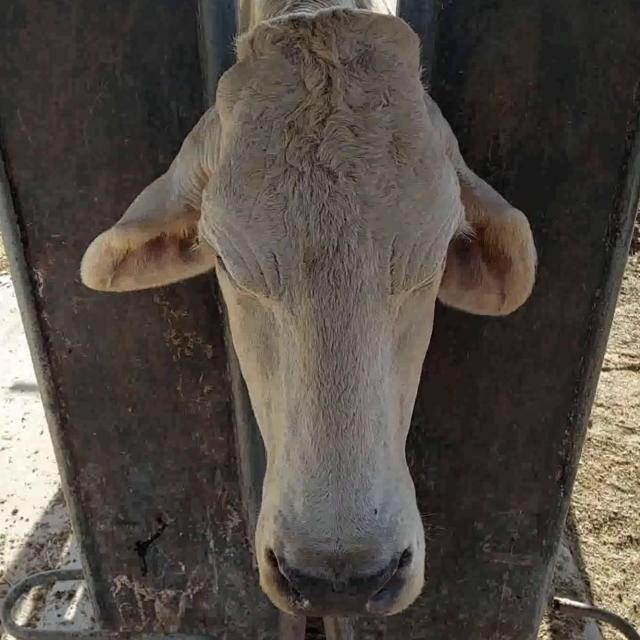cowFace: (198, 13, 464, 610)
